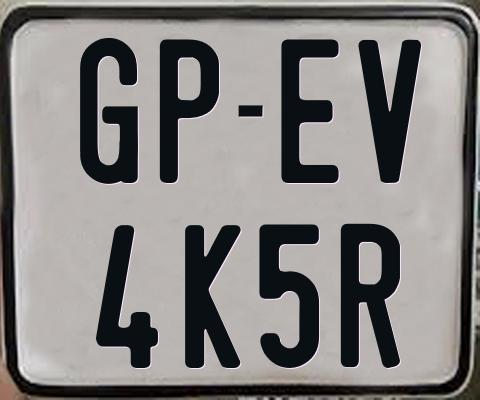4: (94, 224, 162, 373)
5: (256, 223, 322, 373)
E: (278, 39, 342, 189)
G: (78, 35, 136, 181)
K: (183, 222, 241, 371)
P: (160, 39, 223, 183)
R: (338, 222, 400, 366)
V: (356, 37, 420, 186)
